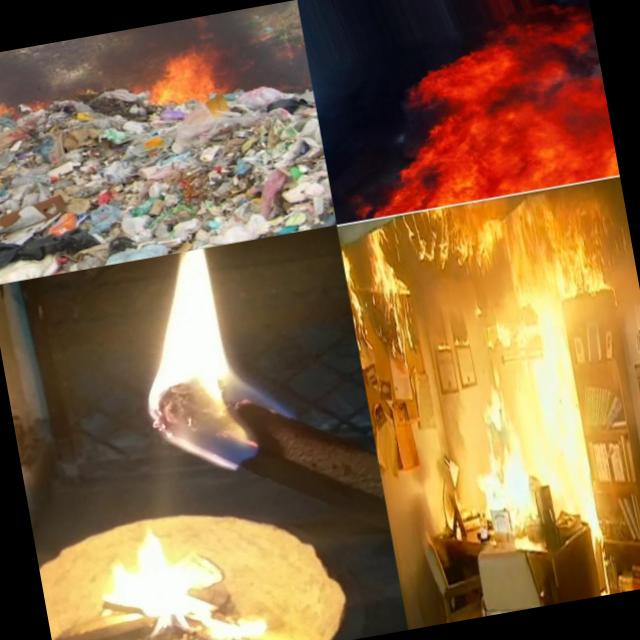fire: (425, 193, 640, 533), (105, 234, 322, 481), (352, 45, 619, 217), (81, 500, 278, 640), (339, 232, 421, 376), (140, 40, 228, 120), (0, 73, 15, 138)
smoke: (7, 49, 148, 118), (215, 22, 312, 102)
